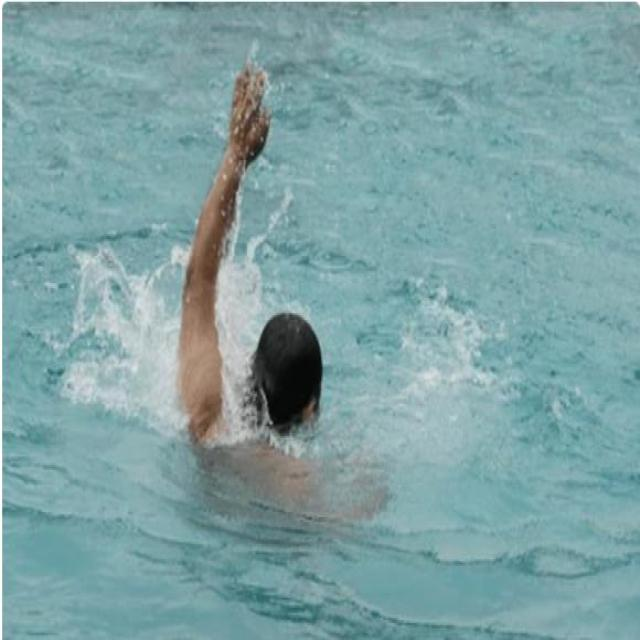Out of Water: (173, 52, 329, 478)
